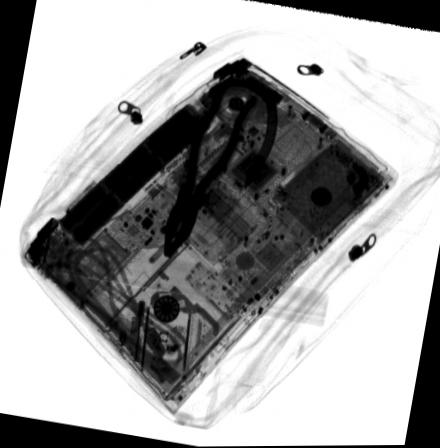Pliers: (162, 84, 258, 260)
